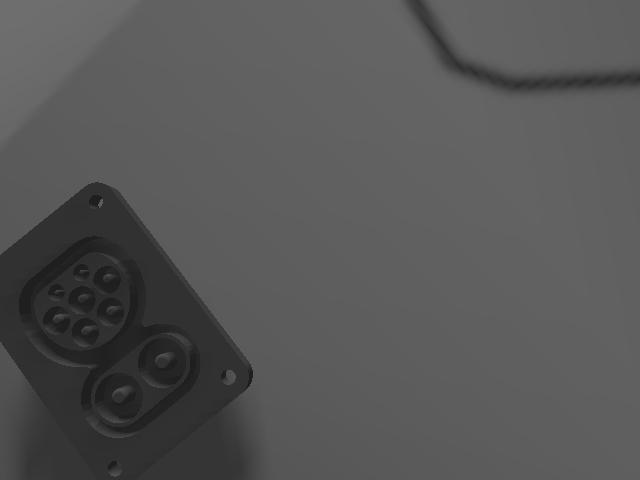EV-socket: (0, 182, 253, 479)
